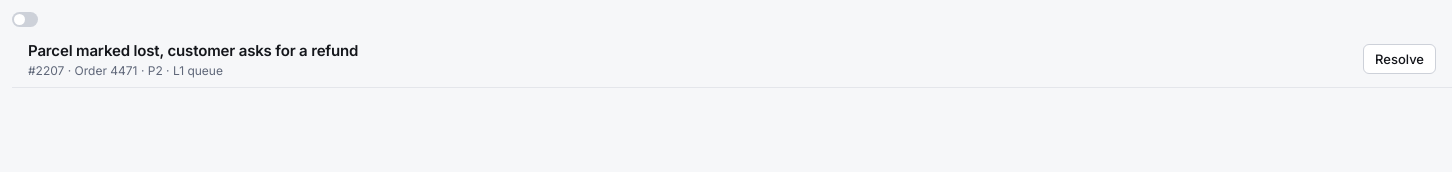
resolving › says what went wrong and tries again with the same key
Later steps or results of the test are not shown.
What coordinates should you click on to do the following:
click the button "Resolve"
I would click on:
 (1400, 59)
Its box is [1363, 44, 1436, 74].
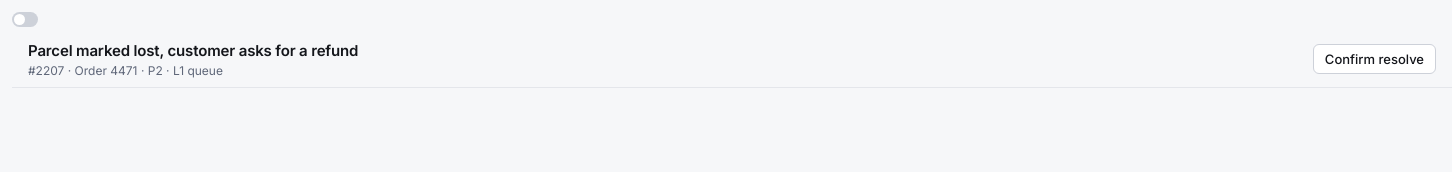
What coordinates should you click on to do the following:
click the button "Confirm resolve"
I would click on:
 (1374, 59)
Its box is [1313, 44, 1436, 74].
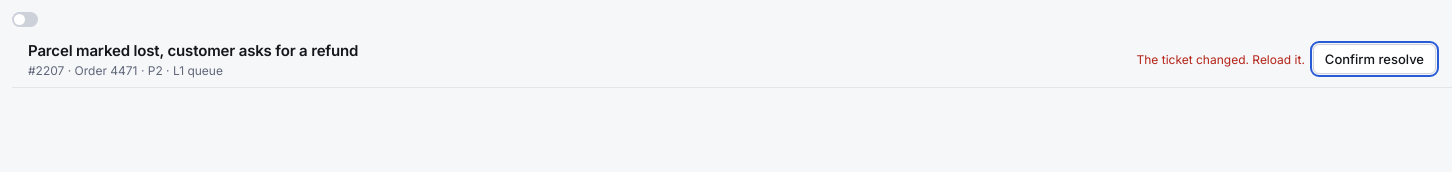
Check: the message reads "The ticket changed. Reload it.", box [1136, 52, 1305, 67]
